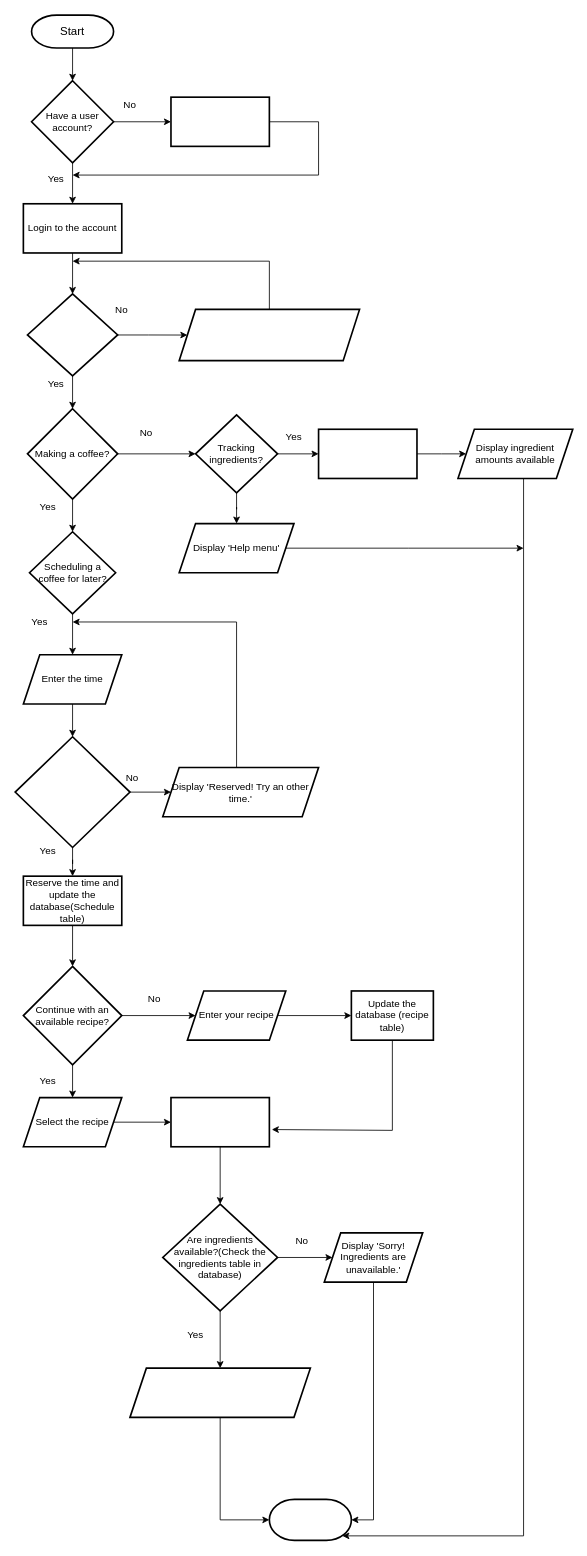
Some shapes in this 587 by 1556 pixel diagram are drawn without their labels. The centre of each missing label's shape, as x and y in pixels:
"Check database (Ingredients table)" belongs at pixel 367 453.
"Display 'Machine is offline,please it to the power'" belongs at pixel 269 334.
"Display 'Your coffee will be ready at 'time''" belongs at pixel 220 1392.
"End" belongs at pixel 310 1519.
"Is machine connected to the power?" belongs at pixel 72 334.
"Is the time slot available? (Check the database)" belongs at pixel 72 792.
"Registration and connecting the coffee machine to the application" belongs at pixel 220 121.
"Update the database(Schedule table)" belongs at pixel 220 1121.
